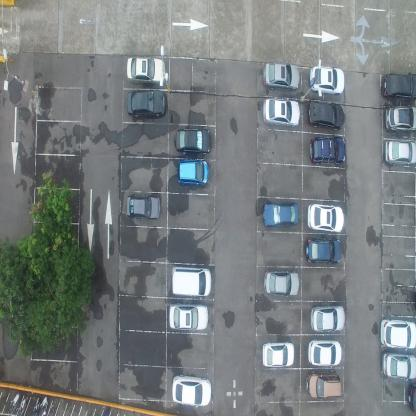car: (171, 372, 211, 408), (170, 265, 212, 298), (124, 55, 166, 85), (380, 316, 415, 352), (125, 90, 167, 119), (263, 59, 301, 91), (262, 96, 301, 127), (168, 301, 208, 331), (307, 100, 344, 131), (307, 203, 344, 234), (263, 268, 301, 298), (310, 304, 346, 335), (308, 66, 345, 96), (309, 136, 346, 166), (382, 71, 416, 102), (307, 338, 342, 368), (172, 128, 212, 154), (384, 137, 416, 169), (305, 237, 341, 265), (261, 202, 299, 228), (382, 352, 416, 381), (306, 371, 341, 399), (262, 340, 294, 370), (384, 104, 415, 134), (177, 158, 210, 186), (126, 192, 160, 219), (408, 383, 416, 415)
